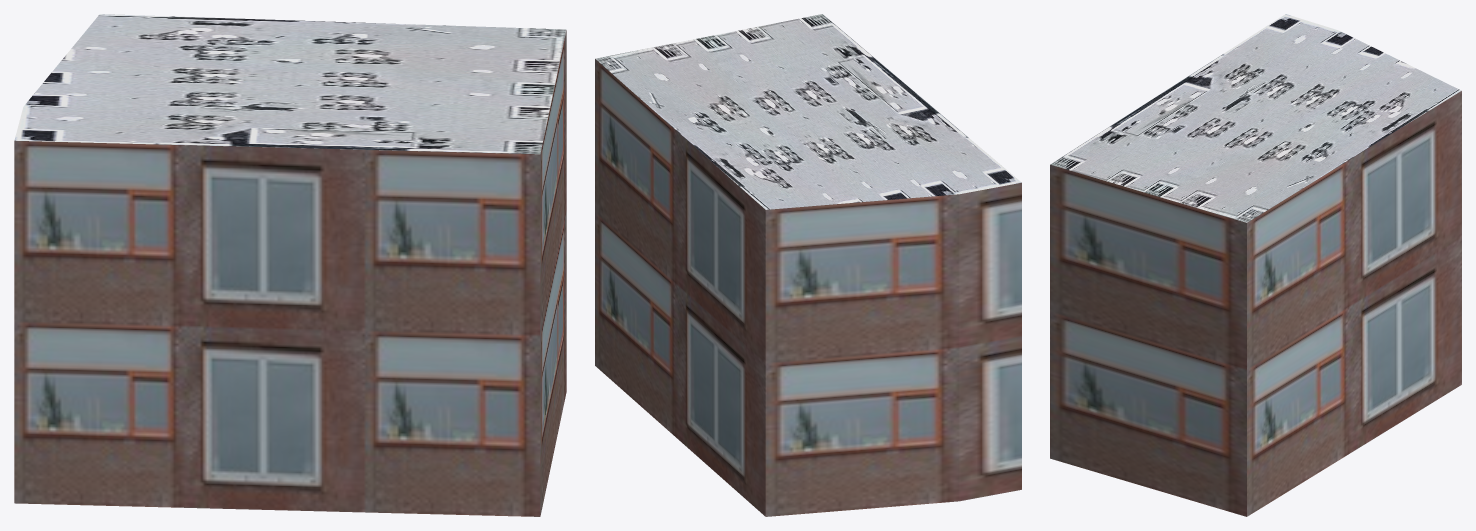
File: ResTex__5004.fbx
3 views of the same model, side by side, from view 1: azimuth 30°, elevation 25°; view 2: azimuth 150°, elevation 25°; view 3: azimuth 270°, elevation 25° (orthographic). The views are drawn at different scales.
Visible parts, largest first — view 1: CityEngineMaterial_19_m, CityEngineMaterial_15_m; view 2: CityEngineMaterial_19_m, CityEngineMaterial_15_m; view 3: CityEngineMaterial_19_m, CityEngineMaterial_15_m.
Part boxes in pixels (left/top/right/bottom): CityEngineMaterial_19_m: left=14, top=30, right=566, bottom=516; CityEngineMaterial_15_m: left=14, top=14, right=566, bottom=154; CityEngineMaterial_19_m: left=595, top=59, right=1021, bottom=516; CityEngineMaterial_15_m: left=595, top=14, right=1021, bottom=209; CityEngineMaterial_19_m: left=1050, top=91, right=1461, bottom=516; CityEngineMaterial_15_m: left=1050, top=14, right=1461, bottom=222.
Bounding box in the file's own units: 9.14 × 6 × 7.61.
Materials: 2 (2 with a texture image).
